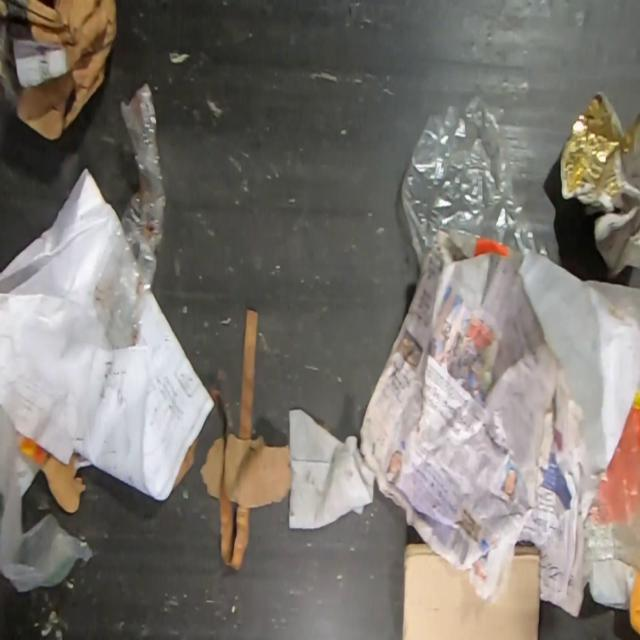cardboard: (0, 0, 120, 144), (404, 540, 541, 640), (40, 451, 90, 515)
soft_plastic: (398, 94, 640, 570), (90, 80, 168, 352), (0, 397, 97, 594)
